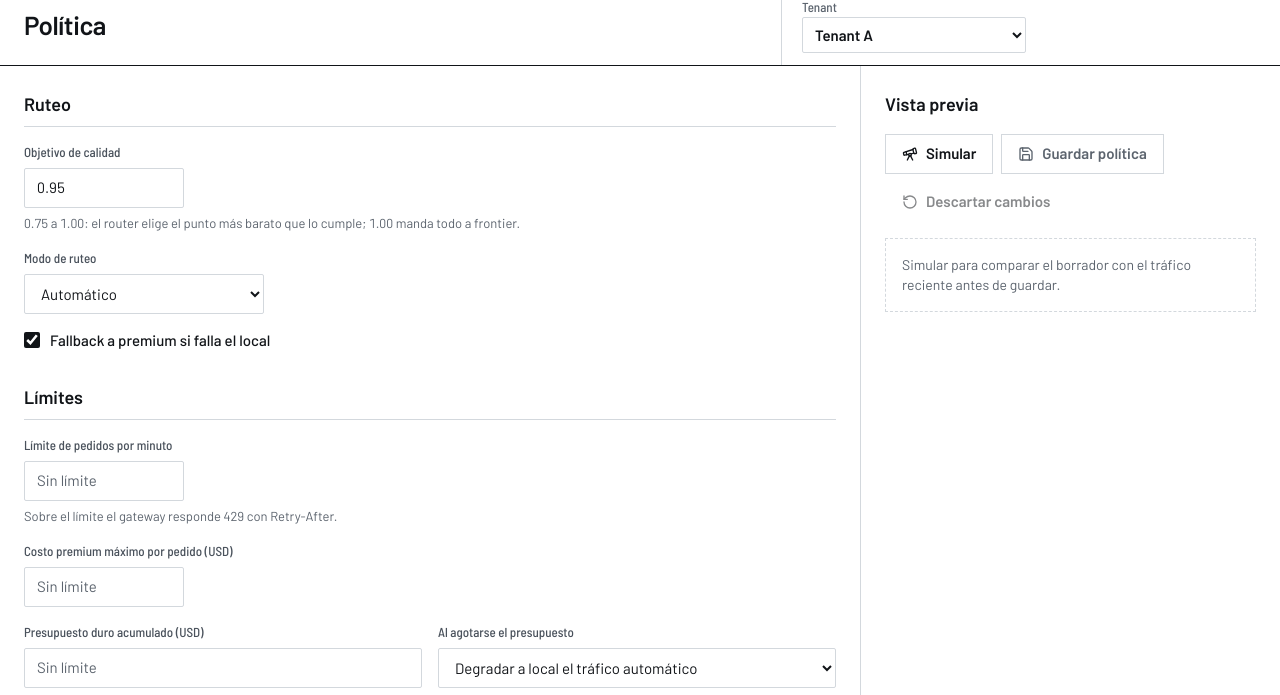
policy-page › clears stale preview evidence when switching tenants
Expected: the heading "Vista previa" is shown, [885,90,978,118]
Click the button "Simular" at {"x": 939, "y": 154}, box [885,134,993,174]
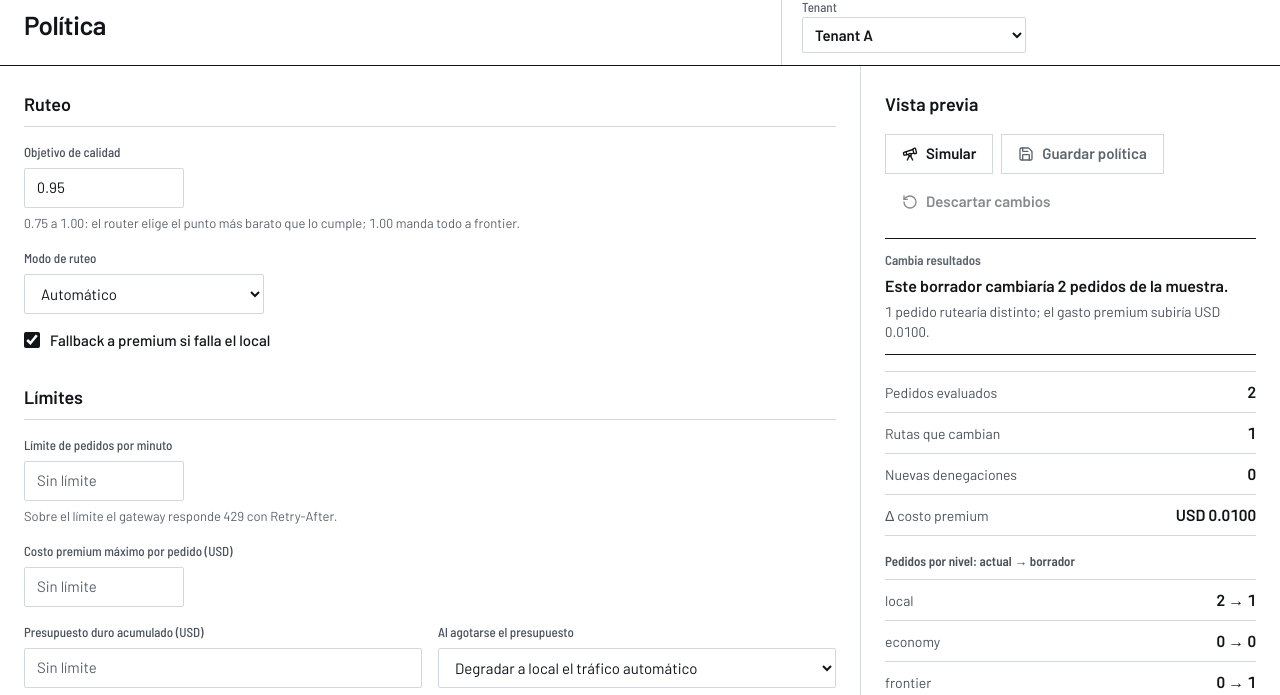
Select "Tenant B" in the dropdown named "Tenant" at {"x": 914, "y": 35}, box [802,17,1026,53]
(page scrolled)
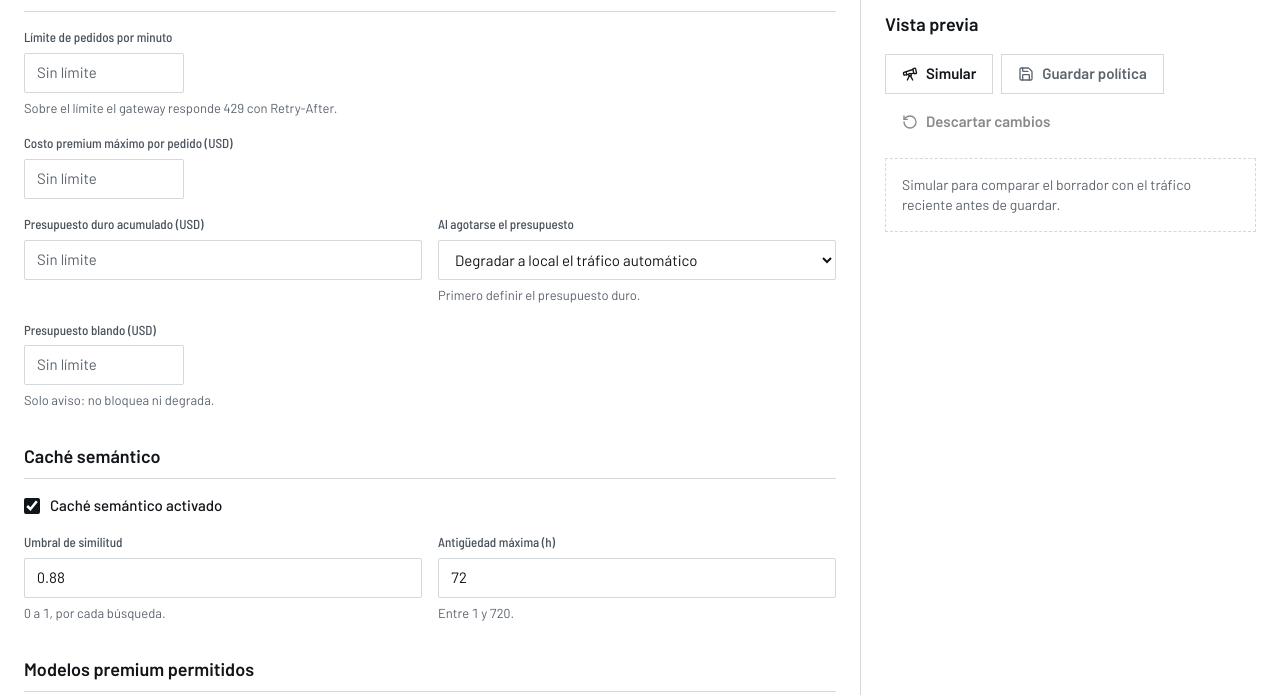
Now the text "Simular para comparar el borrador con el tráfico reciente antes de guardar." is shown, box [885,158,1256,232]
